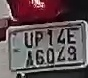0: (45, 47, 56, 64)
1: (45, 28, 53, 47)
4: (54, 29, 67, 47), (57, 49, 67, 63)
6: (33, 48, 46, 66)
9: (66, 45, 78, 62)
A: (24, 49, 36, 67)
E: (65, 25, 78, 44)
P: (34, 30, 44, 48)
U: (24, 32, 34, 49)
